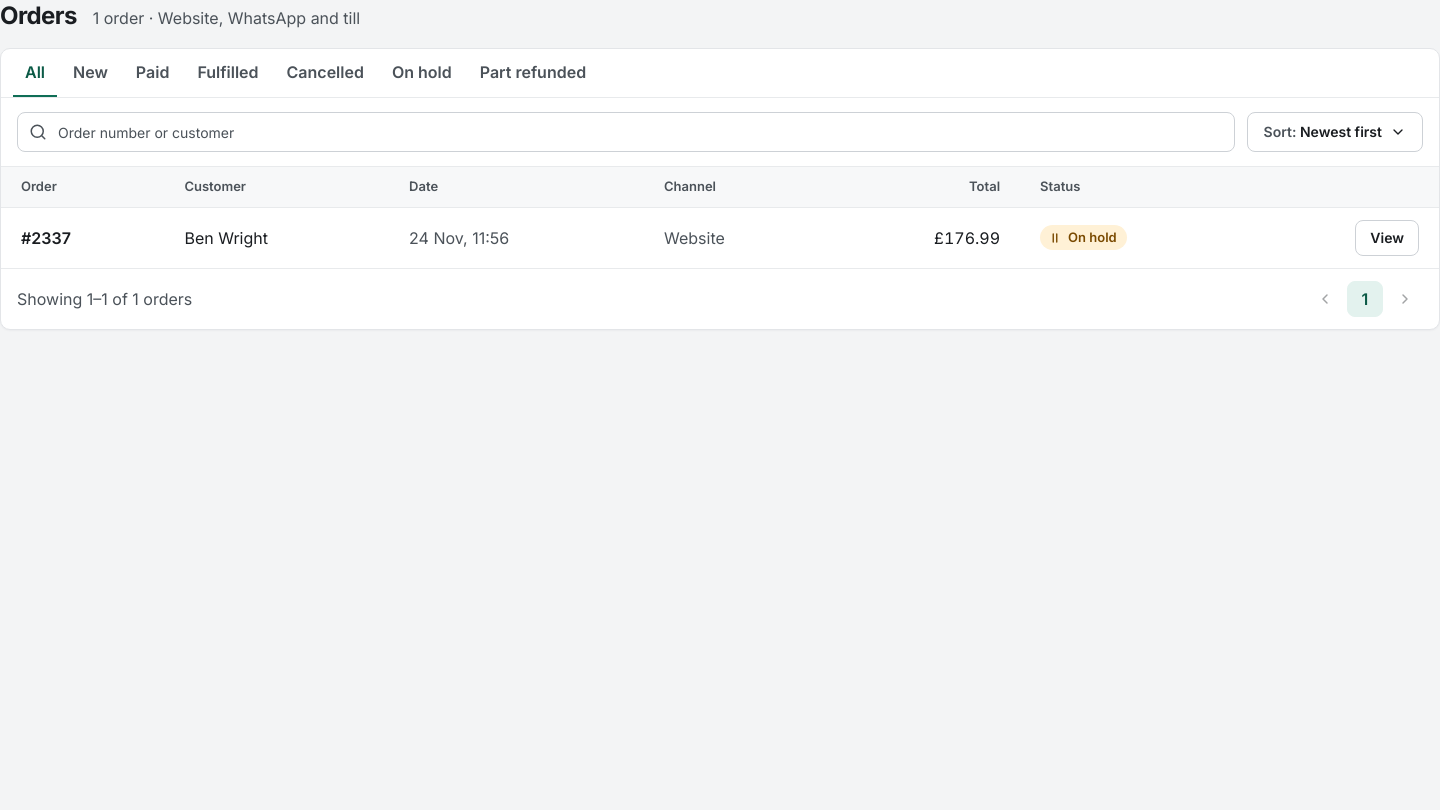
Test case: Orders page with real-world data › shows on_hold orders with their own label and never offers fulfilment
Expected: the row "#2337 Ben Wright 24 Nov, 11:56 Website £176.99 On hold View" is shown, [1, 208, 1439, 268]
Click the button with aria-label "View order #2337" at coordinates (1387, 238), box [1355, 220, 1419, 256]
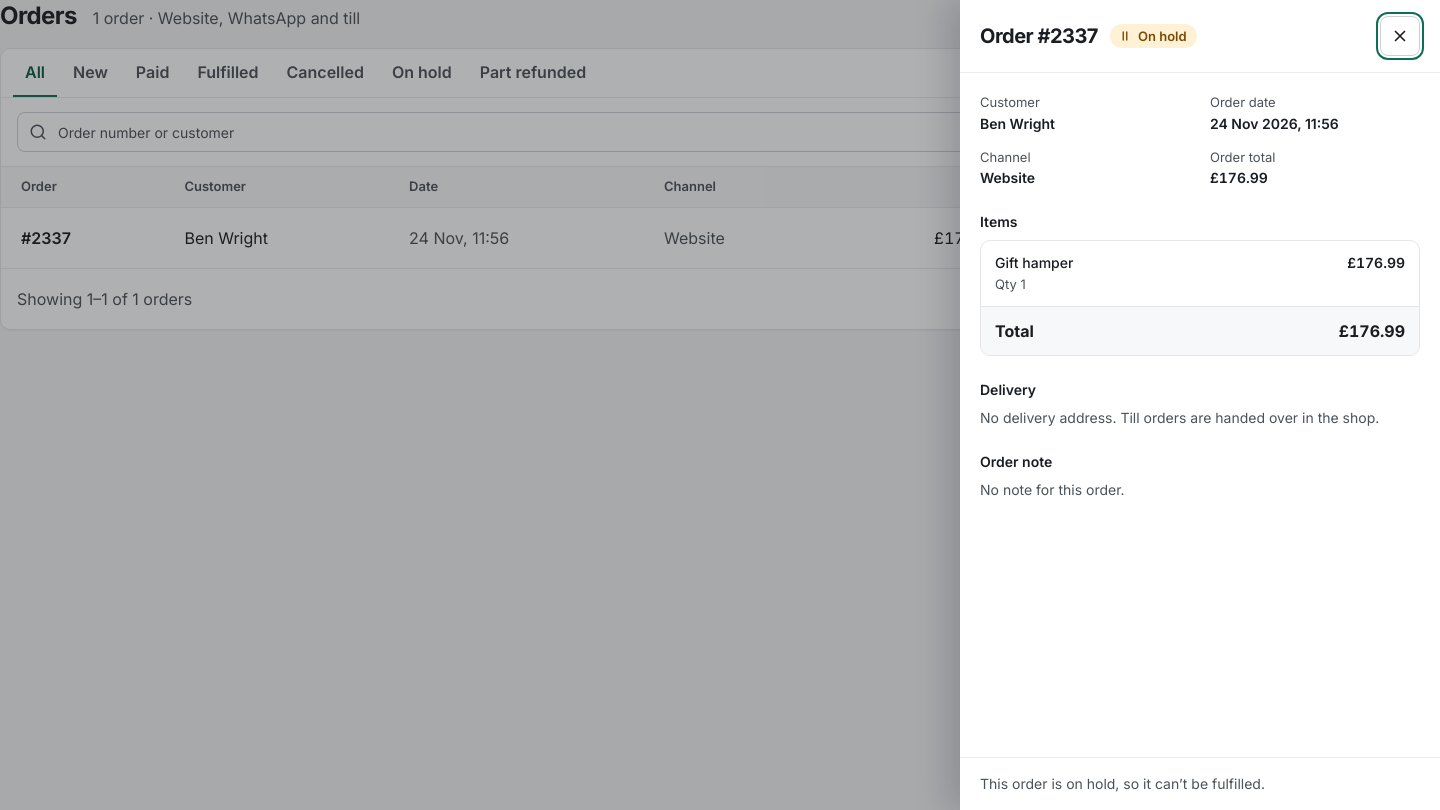
Expected: the text "This order is on hold, so it can’t be fulfilled." is shown, [980, 775, 1265, 792]
